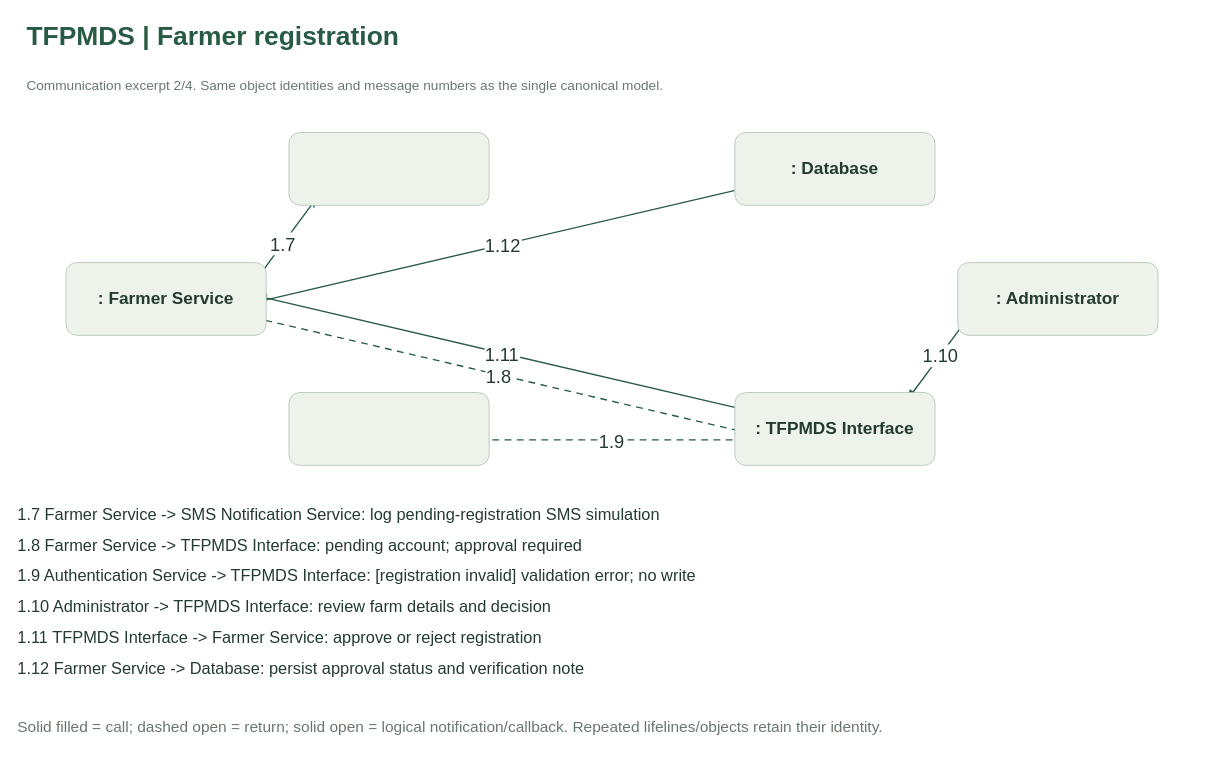
Image size: 1223x757. Some labels were removed from this diagram. The centre of each missing label's shape, as x and y in pixels:
: Authentication Service: pixel 388 428
: SMS Notification Service: pixel 388 168
